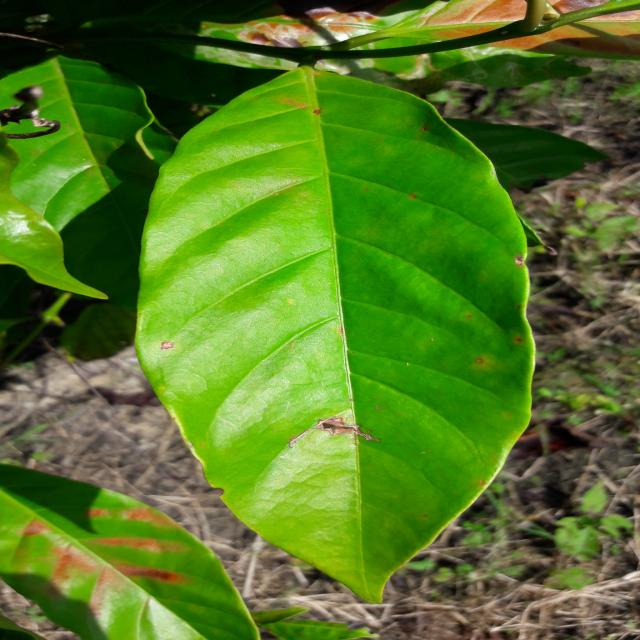Enfermedad-Roya: (133, 67, 537, 605)
